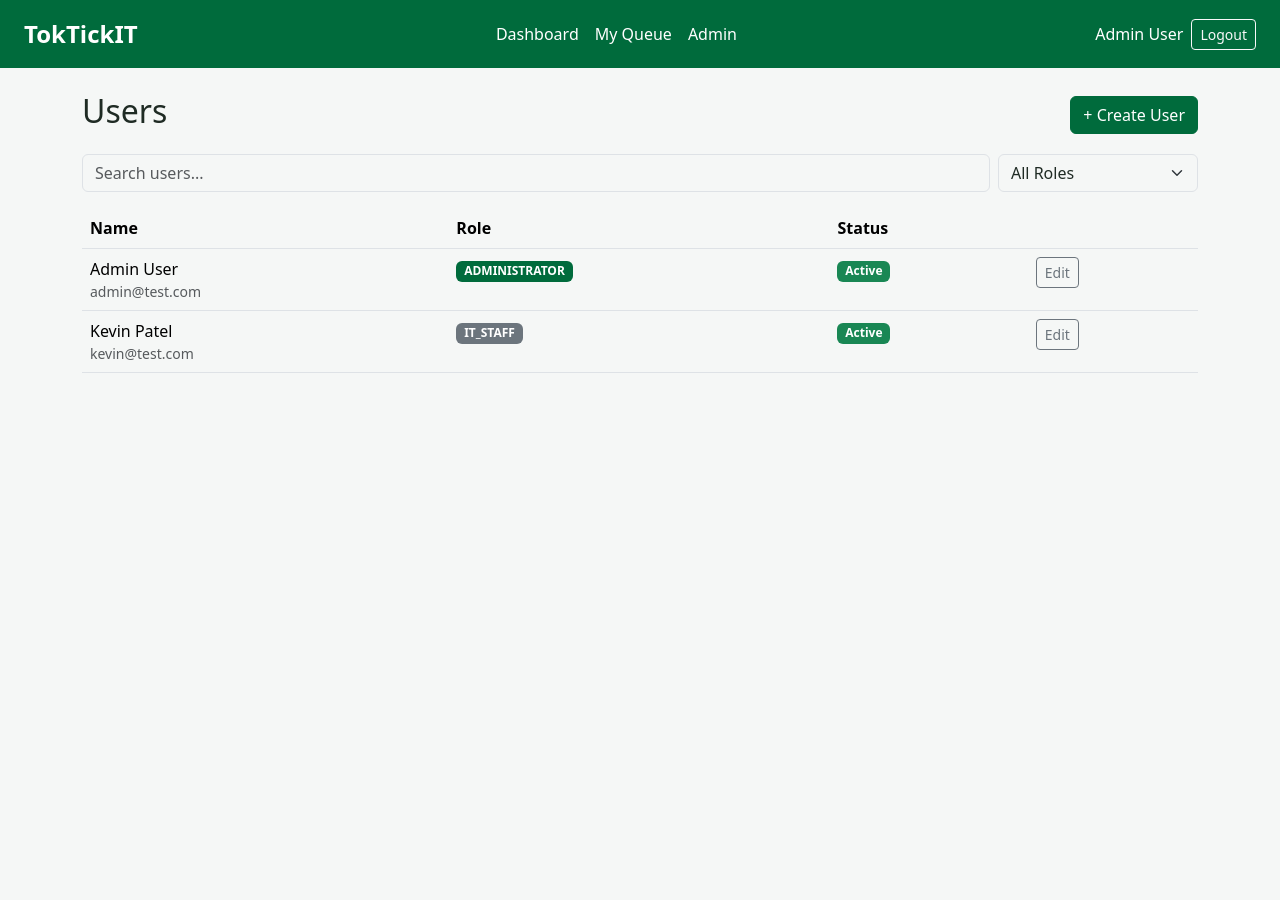
Scenario: UserManagement › disables the Active toggle and Deactivate button when editing your own account (AC-10, BR-17)
Click the button "Edit" in the row of "admin@test.com" at (1057, 273), box [1036, 257, 1079, 288]
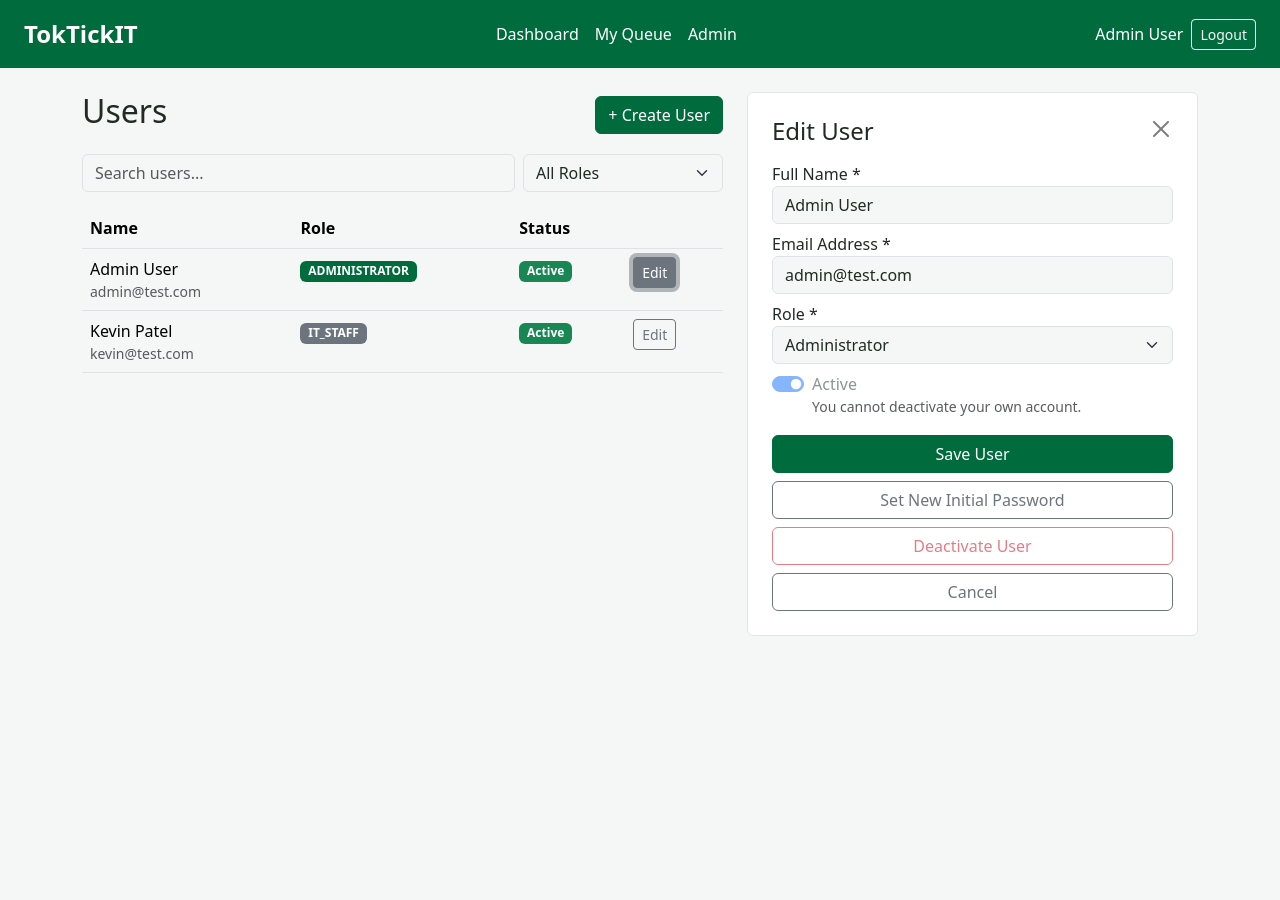
Check: the checkbox labelled "Active" is disabled, box [772, 376, 804, 392]
Check: the button "Deactivate User" is disabled, box [772, 527, 1173, 565]
